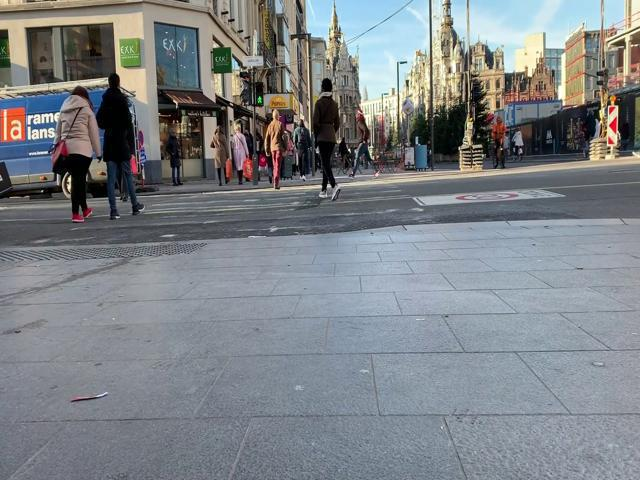shoe: (332, 184, 341, 201), (132, 204, 145, 215), (83, 207, 92, 219), (72, 215, 84, 222), (109, 212, 120, 219)
